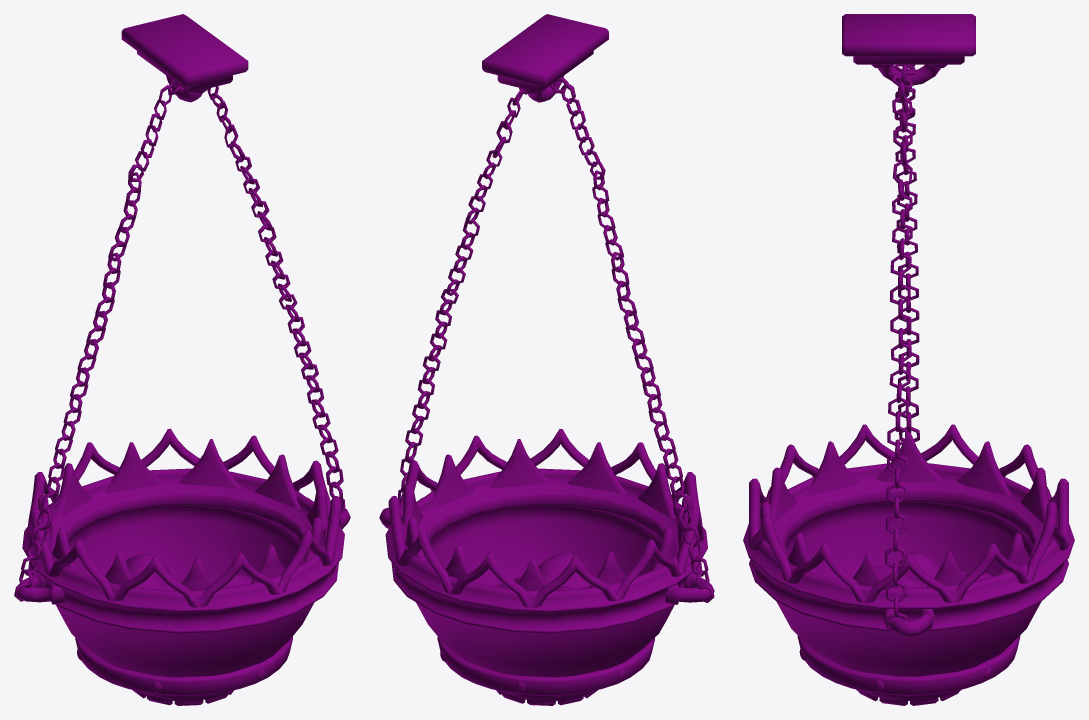
File: W1_Brasero_Suspendu.fbx
The picture shows the model from 3 angles, left to right: view 1: azimuth 30°, elevation 25°; view 2: azimuth 150°, elevation 25°; view 3: azimuth 270°, elevation 25°; orthographic projection. The views are drawn at different scales.
Parts seen in each view (by area): view 1: LDI_Brasero_Suspendu; view 2: LDI_Brasero_Suspendu; view 3: LDI_Brasero_Suspendu.
Part boxes in pixels (x1,y1,x2,y2): LDI_Brasero_Suspendu: (14,14,350,705); LDI_Brasero_Suspendu: (379,14,714,705); LDI_Brasero_Suspendu: (743,14,1074,705).
Bounding box in the file's own units: 125 × 230 × 105.
